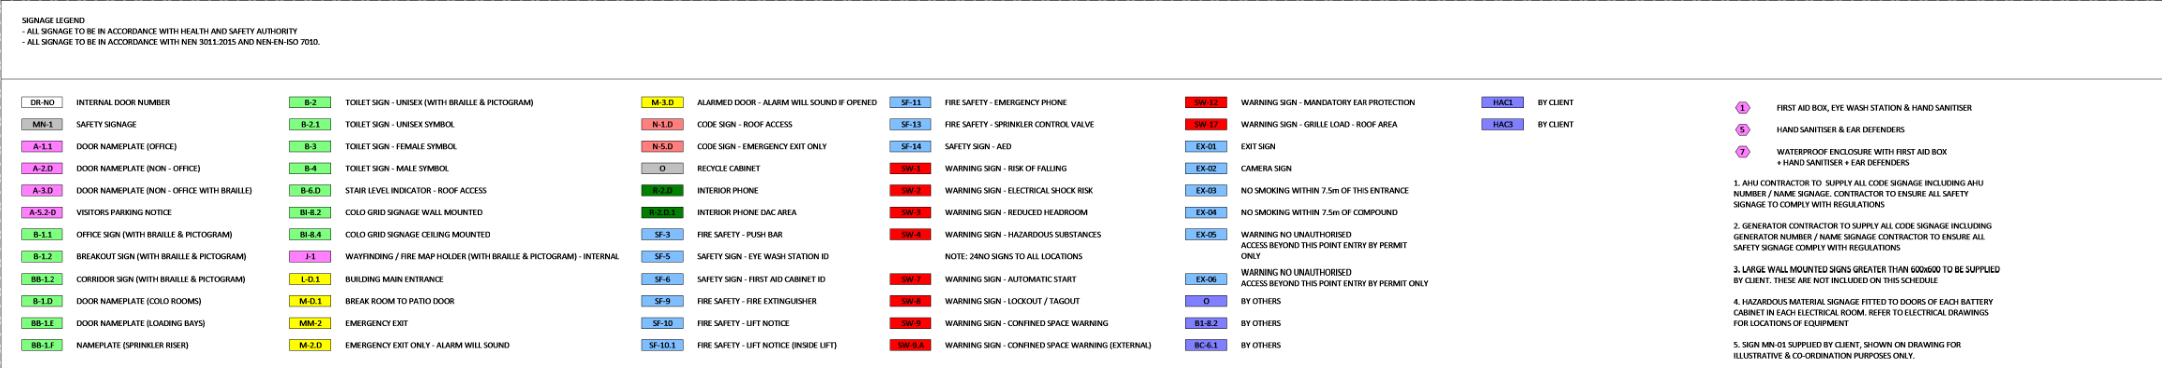hatch: (637, 179, 688, 200), (885, 335, 936, 356), (1477, 91, 1526, 112), (636, 136, 688, 156), (637, 245, 685, 266), (885, 289, 933, 310), (283, 114, 334, 134), (281, 225, 335, 243), (18, 92, 68, 112), (284, 336, 334, 356), (1182, 203, 1231, 222), (1180, 270, 1230, 289), (284, 314, 336, 332), (882, 114, 935, 132), (287, 181, 335, 200), (887, 313, 935, 332), (17, 336, 68, 354), (283, 292, 334, 310), (638, 94, 689, 112), (636, 225, 687, 243), (637, 314, 688, 332), (19, 247, 66, 266), (287, 247, 334, 266), (1182, 291, 1229, 310), (17, 270, 66, 288), (285, 92, 335, 110), (284, 270, 334, 288), (637, 201, 687, 219), (636, 272, 689, 288), (637, 336, 687, 354), (1182, 116, 1231, 134), (1180, 159, 1230, 176), (1179, 182, 1233, 198), (1180, 314, 1230, 332), (18, 135, 63, 154), (285, 159, 334, 176), (638, 292, 687, 310), (1180, 138, 1229, 156), (1182, 336, 1230, 354), (19, 159, 63, 178), (885, 138, 936, 154), (887, 92, 933, 110), (887, 157, 933, 175), (887, 181, 933, 198), (284, 138, 334, 154), (885, 270, 935, 287), (1180, 226, 1230, 243), (1478, 116, 1528, 132), (19, 314, 68, 331), (285, 204, 334, 221), (885, 227, 933, 244), (19, 292, 63, 310), (18, 182, 65, 198), (638, 114, 685, 131), (1182, 94, 1229, 110), (17, 116, 66, 131), (19, 205, 65, 222), (637, 160, 687, 175), (18, 226, 65, 241), (887, 204, 933, 219), (1730, 143, 1755, 163), (1730, 98, 1752, 119), (1733, 121, 1755, 141)
label: (1237, 227, 1416, 260), (339, 247, 629, 265), (1238, 265, 1433, 289), (1766, 145, 1951, 170), (939, 335, 1158, 353), (1769, 96, 1981, 114), (692, 91, 881, 109), (1235, 92, 1422, 110), (342, 92, 540, 109), (1235, 182, 1422, 198), (70, 269, 250, 285), (342, 336, 516, 353), (69, 183, 256, 198), (1235, 204, 1404, 221), (70, 249, 252, 265), (940, 114, 1103, 131), (694, 247, 833, 266), (938, 182, 1099, 198), (1234, 116, 1408, 131), (939, 92, 1074, 112), (1772, 120, 1915, 138), (339, 226, 494, 243), (938, 203, 1092, 219), (339, 183, 489, 200), (338, 203, 487, 219), (938, 316, 1115, 329), (72, 159, 207, 176), (938, 227, 1110, 241), (691, 338, 845, 353), (72, 227, 234, 241), (692, 139, 838, 154), (939, 159, 1073, 175), (694, 270, 837, 285), (69, 292, 210, 307), (942, 295, 1088, 309), (342, 292, 462, 309), (339, 270, 458, 287), (70, 92, 179, 110), (939, 272, 1080, 285), (694, 313, 800, 331), (72, 338, 193, 353), (339, 161, 461, 176), (341, 116, 459, 131), (339, 138, 458, 153), (694, 295, 820, 309), (70, 316, 211, 328), (691, 116, 794, 132), (691, 204, 802, 219), (74, 138, 181, 153), (691, 227, 790, 243), (68, 204, 176, 218), (691, 160, 767, 176), (341, 314, 421, 329), (1234, 338, 1291, 357), (942, 139, 1013, 154), (689, 183, 762, 197), (1234, 160, 1306, 174), (69, 119, 148, 131), (1530, 116, 1577, 134), (1530, 95, 1582, 110), (1237, 295, 1288, 309), (1240, 138, 1280, 154), (1237, 316, 1288, 328)
